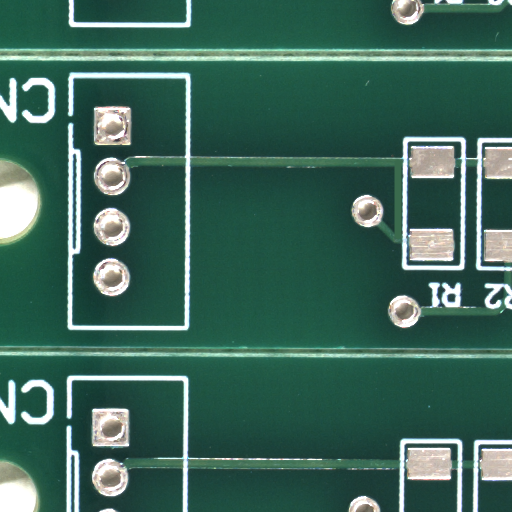Short: (397, 200, 410, 276)
